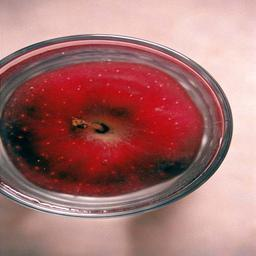apple: (0, 40, 224, 201)
